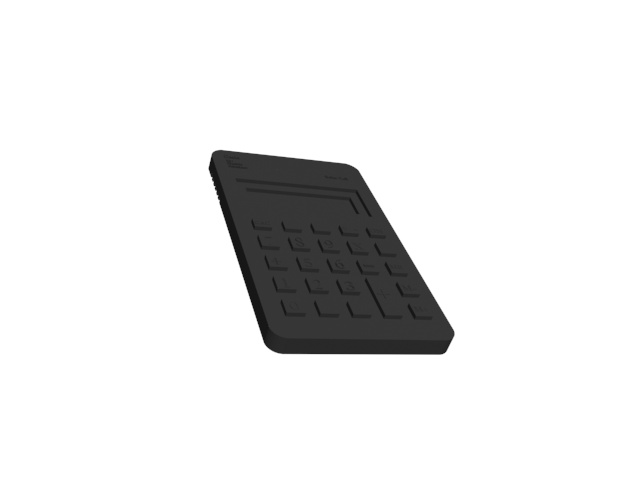calculator: (209, 145, 456, 360)
